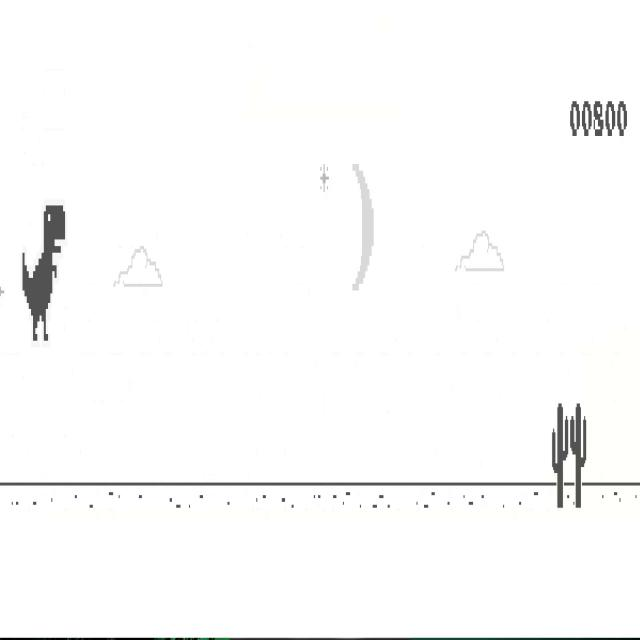cacto: (570, 403, 587, 508), (552, 403, 568, 508)
dino: (22, 203, 65, 342)
